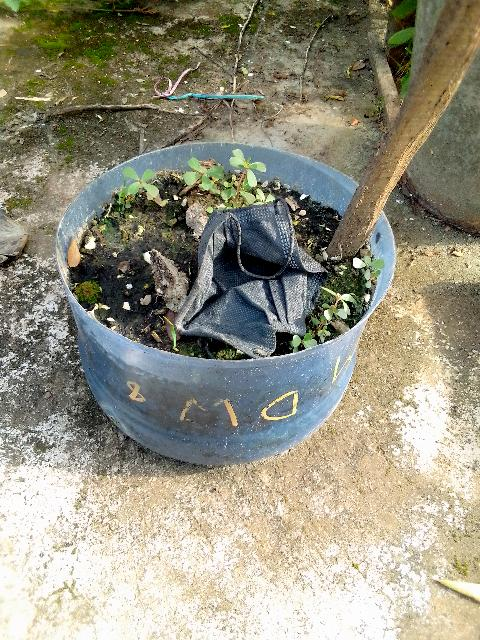mask: (144, 187, 348, 343)
